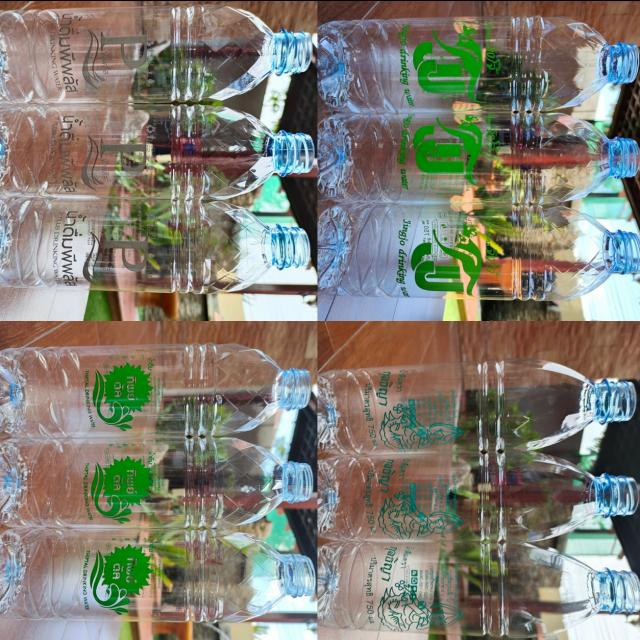plastik: (318, 203, 640, 300), (318, 15, 639, 112), (317, 358, 636, 454), (318, 541, 640, 636), (0, 4, 312, 102), (0, 342, 311, 437), (0, 198, 310, 293), (0, 528, 315, 621), (317, 451, 638, 541), (0, 106, 314, 198), (318, 112, 639, 201), (0, 437, 314, 527)
